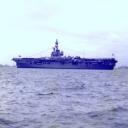Portanaves: (12, 38, 120, 71)
